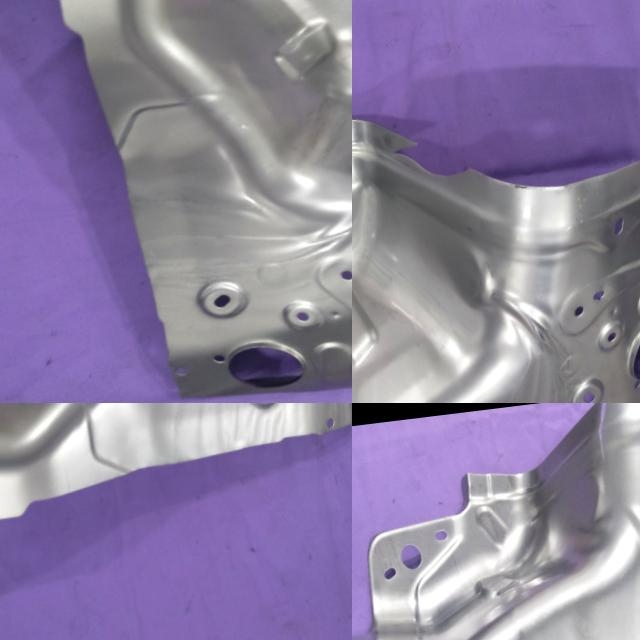Defect: (364, 99, 494, 218), (586, 403, 622, 466)
Healthy: (0, 403, 352, 540)
